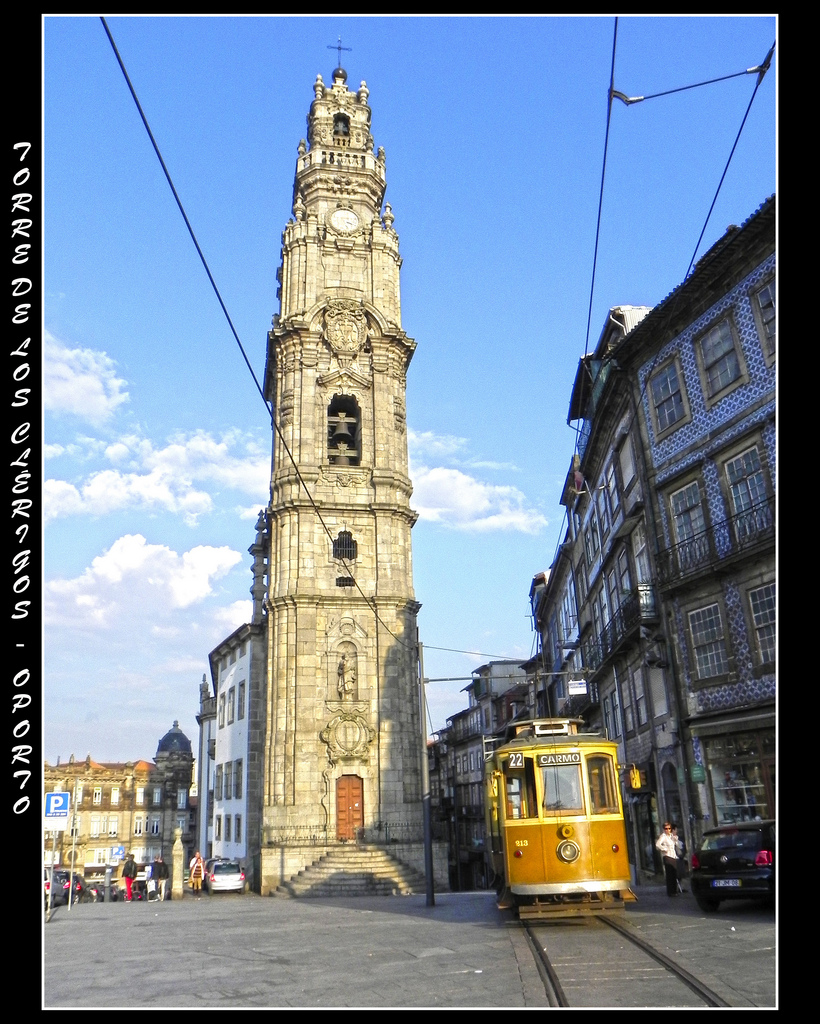clerigos: (246, 27, 433, 842)
